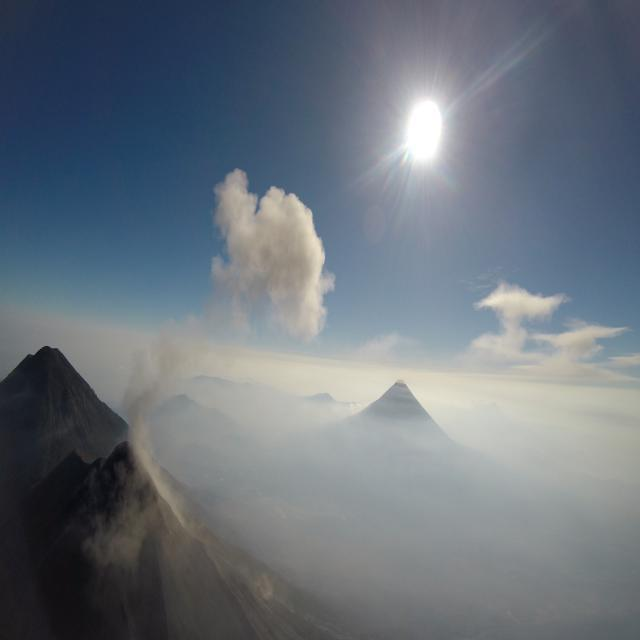Plume: (207, 166, 335, 348), (120, 344, 172, 437)
Summit: (36, 435, 170, 497)
